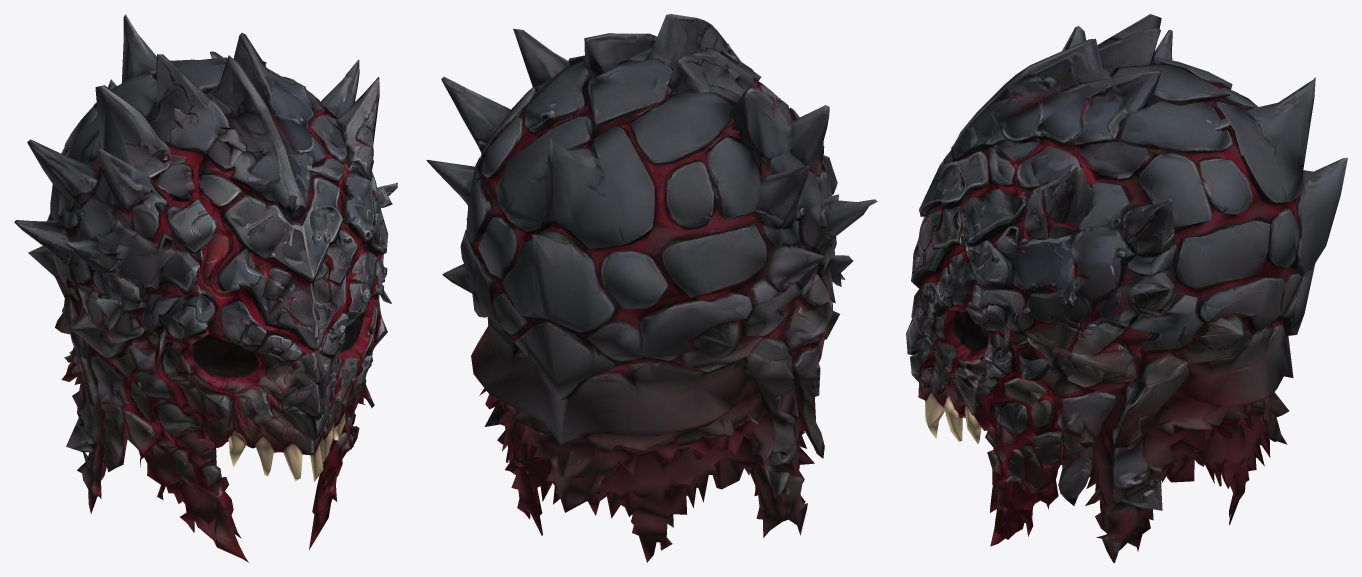
File: tripo-rochedo154.glb
3 views of the same model, side by side, from view 1: azimuth 30°, elevation 25°; view 2: azimuth 150°, elevation 25°; view 3: azimuth 270°, elevation 25° (orthographic). The views are drawn at different scales.
Parts seen in each view (by area): view 1: tripo_node_33a49ff2-cd32-4f03-b520-776f035b996a; view 2: tripo_node_33a49ff2-cd32-4f03-b520-776f035b996a; view 3: tripo_node_33a49ff2-cd32-4f03-b520-776f035b996a.
Part boxes in pixels (x1,y1,x2,y2): tripo_node_33a49ff2-cd32-4f03-b520-776f035b996a: [14, 14, 397, 562]; tripo_node_33a49ff2-cd32-4f03-b520-776f035b996a: [426, 14, 877, 562]; tripo_node_33a49ff2-cd32-4f03-b520-776f035b996a: [906, 14, 1347, 562].
Size of the model in its own units: 0.7902 by 0.9796 by 0.7968.
1 material, 1 textured.
